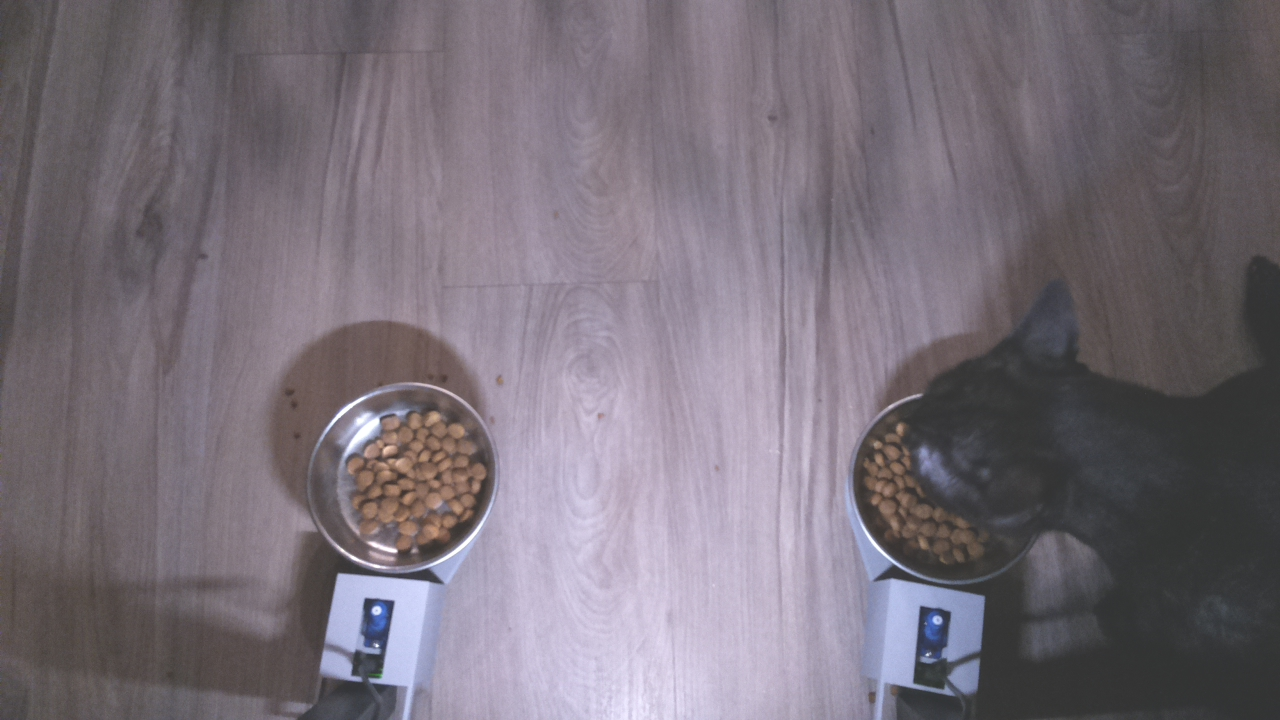open_bowl: (308, 379, 500, 570)
saki_eating: (843, 276, 1137, 593)
